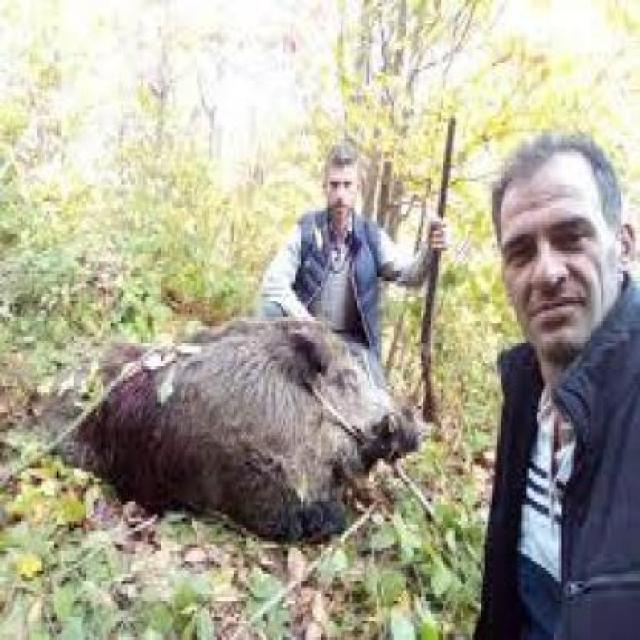wildboar: (27, 300, 431, 555)
